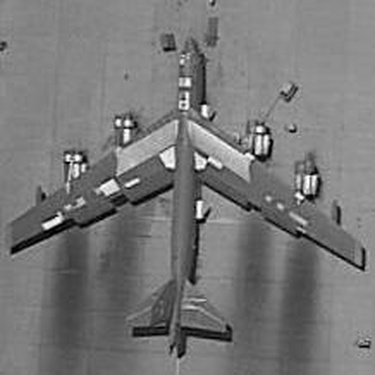airplane: (3, 11, 372, 364)
